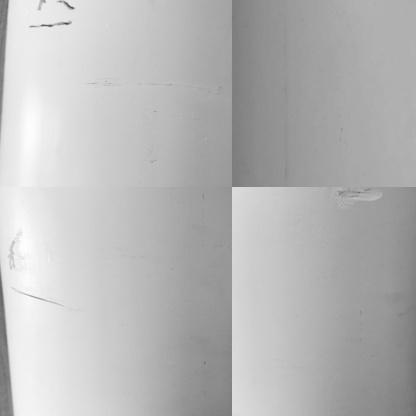fengxi: (27, 22, 76, 30), (55, 1, 78, 11), (36, 1, 44, 12)
sunshang: (10, 285, 66, 306), (333, 187, 386, 208)
